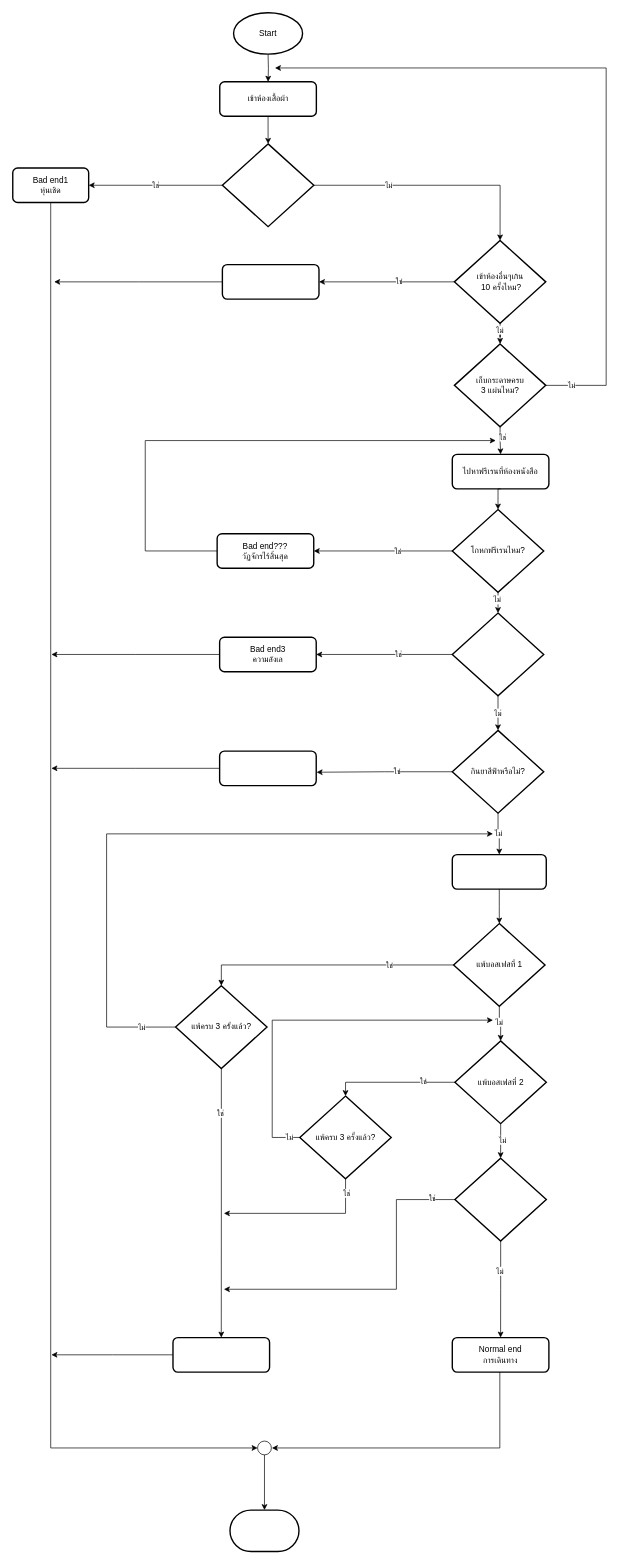
Image size: 624x1564. Some labels were removed from this diagram. Each missing label, with the centre of its shape:
"Bad end ??? ความพ่ายแพ้" belongs at pixel 268 768.
"Bad end2 เปลือนอกไร้วิญญาณ" belongs at pixel 270 281.
"Bad end4 จุดจบ" belongs at pixel 221 1354.
"End" belongs at pixel 264 1530.
"กินยาสองขวดพร้อม กันหรือไม่?" belongs at pixel 497 654.
"ต่อสู้บอส" belongs at pixel 499 871.
"เข้าห้องเสื้อผ้าเกิน 10 ครั้งไหม?" belongs at pixel 267 185.
"แพ้บอสเฟสที่ 3" belongs at pixel 500 1199.
